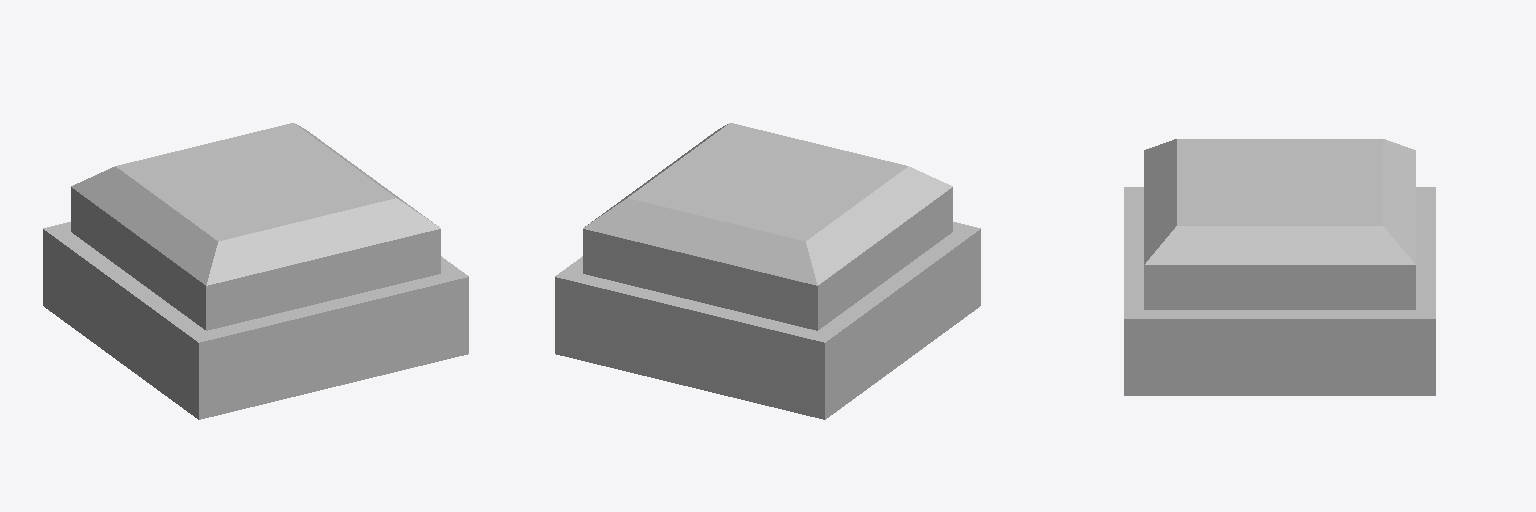
Rendered from Button.obj.
3 views of the same model, side by side, from view 1: azimuth 30°, elevation 25°; view 2: azimuth 150°, elevation 25°; view 3: azimuth 270°, elevation 25° (orthographic).
Parts seen in each view (by area): view 1: Button; view 2: Button; view 3: Button.
Boxes of the visible parts, x1=… form: Button: x1=43, y1=123, x2=468, y2=419; Button: x1=555, y1=123, x2=980, y2=419; Button: x1=1124, y1=139, x2=1435, y2=395.
Size of the model in its own units: 0.1339 by 0.0699 by 0.1339.